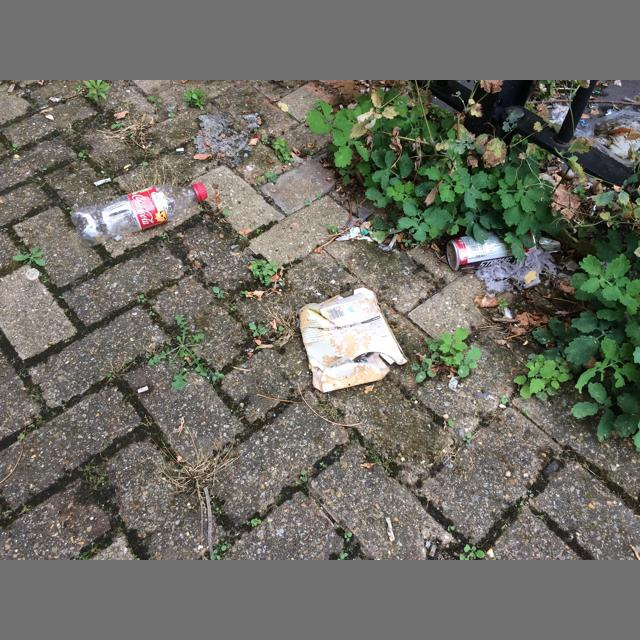litter: (299, 287, 409, 393), (71, 182, 208, 247), (476, 246, 557, 297), (447, 229, 536, 271), (585, 110, 640, 167), (535, 236, 561, 253), (550, 103, 570, 125), (195, 182, 207, 201), (93, 177, 111, 186), (137, 386, 149, 393), (49, 96, 61, 102), (176, 148, 184, 151)
